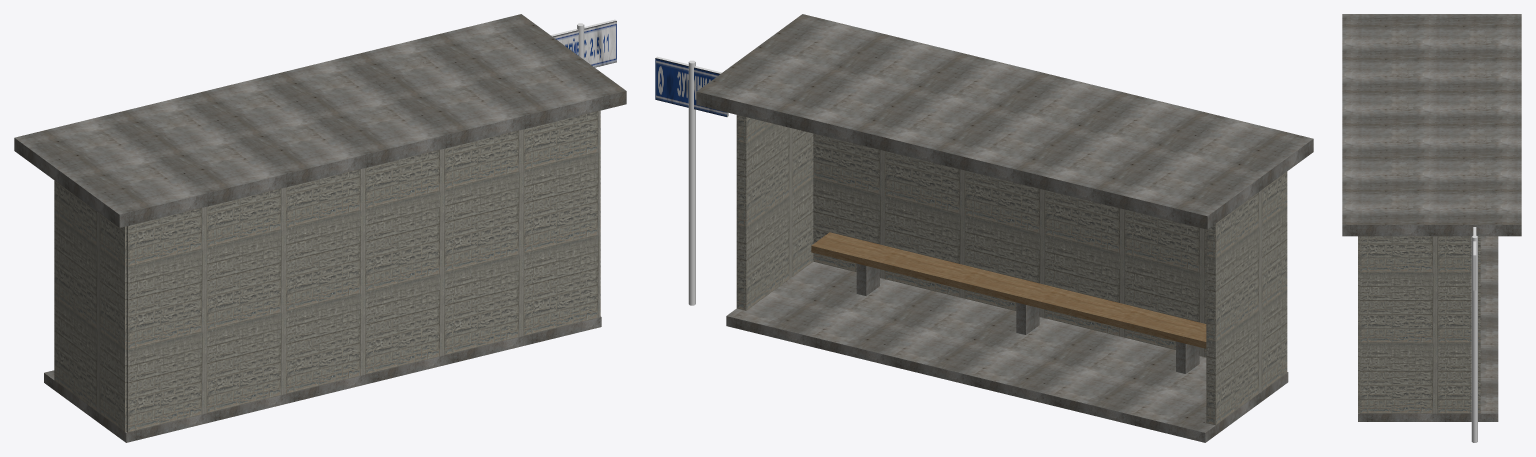
Rendered from S1U_BusStop.fbx.
The picture shows the model from 3 angles, left to right: view 1: azimuth 30°, elevation 25°; view 2: azimuth 150°, elevation 25°; view 3: azimuth 270°, elevation 25°; orthographic projection. The views are drawn at different scales.
Parts seen in each view (by area): view 1: S1U_BusStop; view 2: S1U_BusStop; view 3: S1U_BusStop.
Part boxes in pixels (x1,y1,x2,y2): S1U_BusStop: [14, 14, 626, 442]; S1U_BusStop: [655, 14, 1313, 442]; S1U_BusStop: [1342, 14, 1521, 442].
Size of the model in its own units: 7.25 by 2.9 by 2.3.
